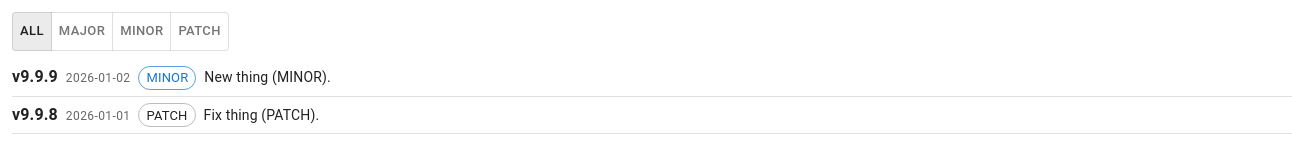
Test: facts widgets › filters the changelog feed by bump type
This screenshot has width=1292, height=160.
Check: the text "New thing (MINOR)." is shown, box [204,69,331,85]
Click the button "PATCH".
click(200, 31)  # box [170,12,229,51]
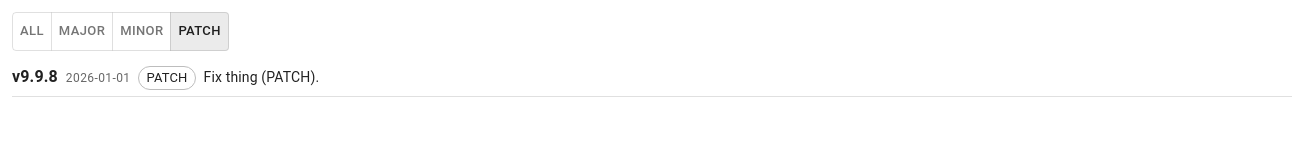
Check: the text "Fix thing (PATCH)." is shown, box [204,69,319,85]
Check: the text "New thing (MINOR)." is gone
